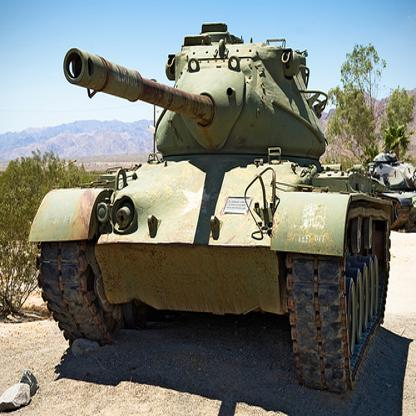Tank: (27, 20, 400, 393)
